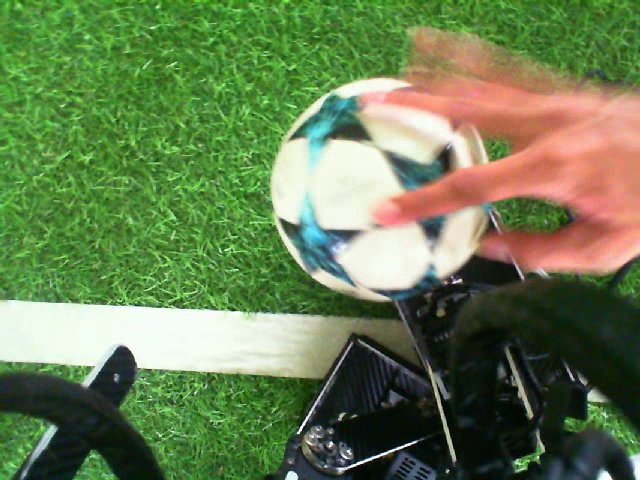ball: (267, 74, 494, 307)
